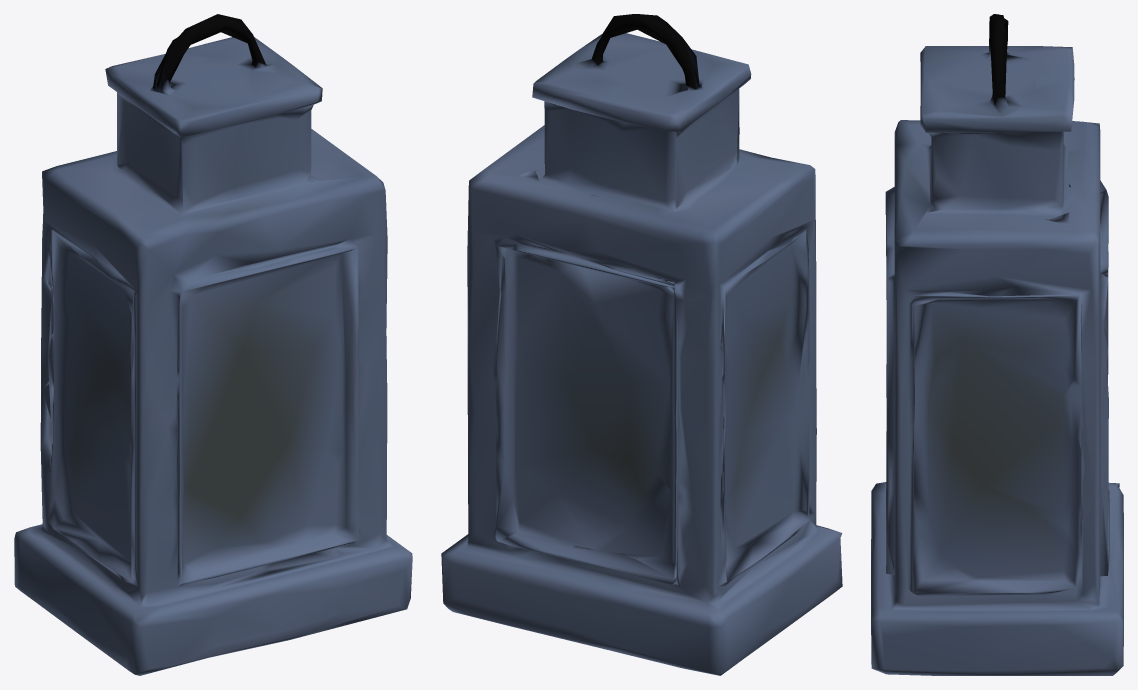
Rendered from gen3d-ice-lantern-lod0.glb.
3 views of the same model, side by side, from view 1: azimuth 30°, elevation 25°; view 2: azimuth 150°, elevation 25°; view 3: azimuth 270°, elevation 25° (orthographic).
Visible parts, largest first — view 1: part_0; view 2: part_0; view 3: part_0.
Part boxes in pixels (box(x1,y1,x2,y2)): part_0: box(14, 14, 412, 675); part_0: box(441, 14, 842, 675); part_0: box(871, 14, 1123, 675).
Bounding box in the file's own units: 0.5026 × 0.9978 × 0.3879.
